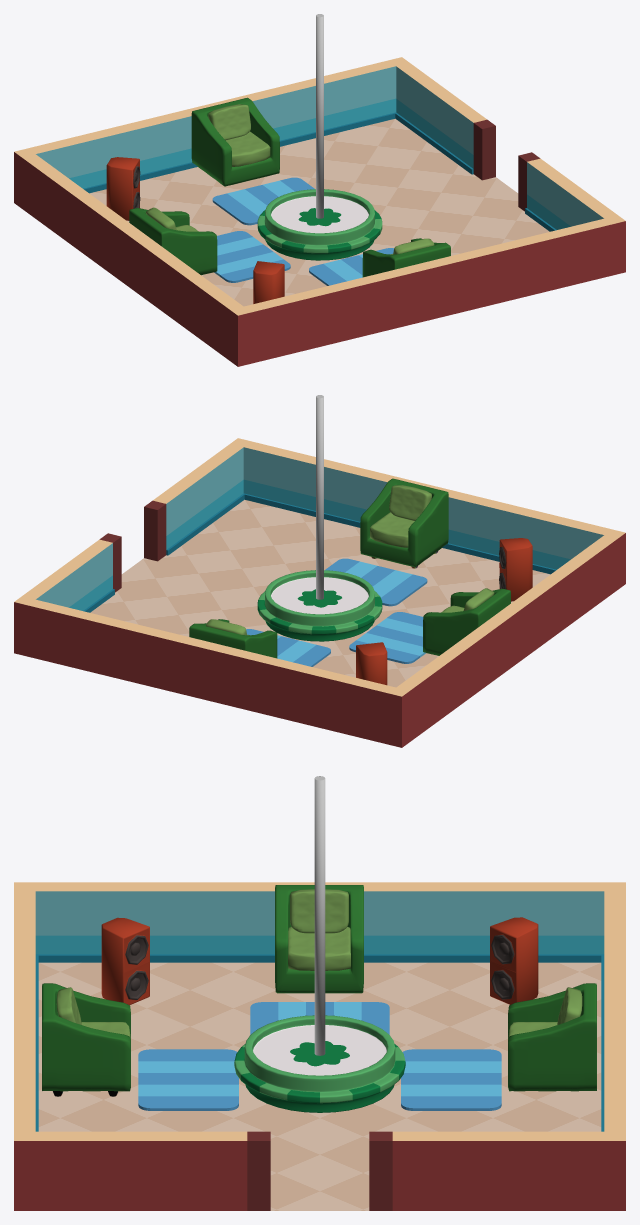
Rendered from VIP_Room_Lvl2_02a 1.fbx.
The picture shows the model from 3 angles, top to bottom: view 1: azimuth 30°, elevation 25°; view 2: azimuth 150°, elevation 25°; view 3: azimuth 270°, elevation 25°; orthographic projection. The views are drawn at different scales.
Visible parts, largest first — view 1: Plane.006, Plane.013; view 2: Plane.006, Plane.013; view 3: Plane.006, Plane.013.
Boxes of the visible parts, <box> form: Plane.006: <box>14,57,625,366</box>; Plane.013: <box>106,14,450,303</box>; Plane.006: <box>14,438,625,747</box>; Plane.013: <box>189,395,532,685</box>; Plane.006: <box>14,882,625,1210</box>; Plane.013: <box>42,776,596,1112</box>.
Size of the model in its own units: 7.92 by 4.33 by 7.92.
3 materials, 2 textured.
